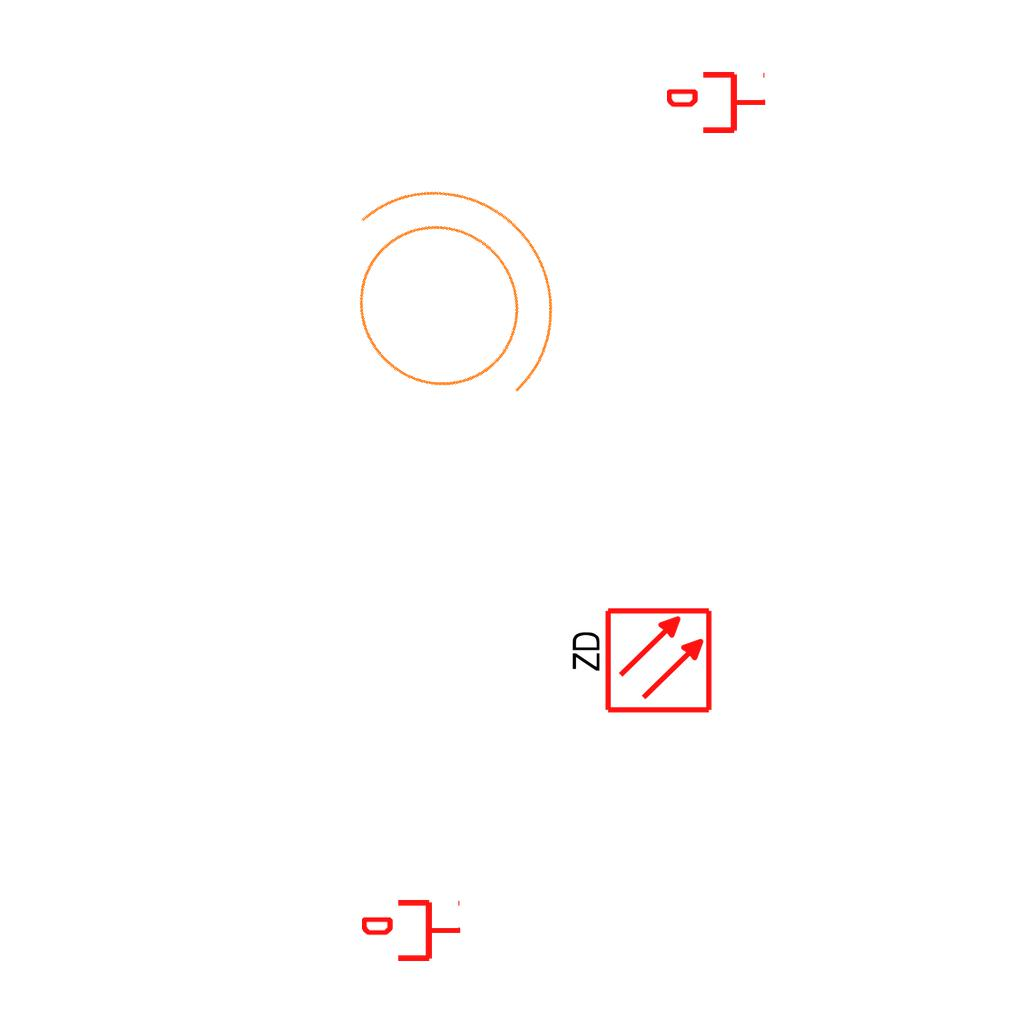Datenanschluss_einfach: (667, 68, 767, 137), (362, 896, 462, 965)
Scheinwerfer_fuer_Alarmbeleuchtung: (270, 121, 614, 468)
ZD_Melder_in_Zwischendecke_mit_Revisionsoeffnung_mind_40_x_40_cm: (565, 605, 714, 719)
